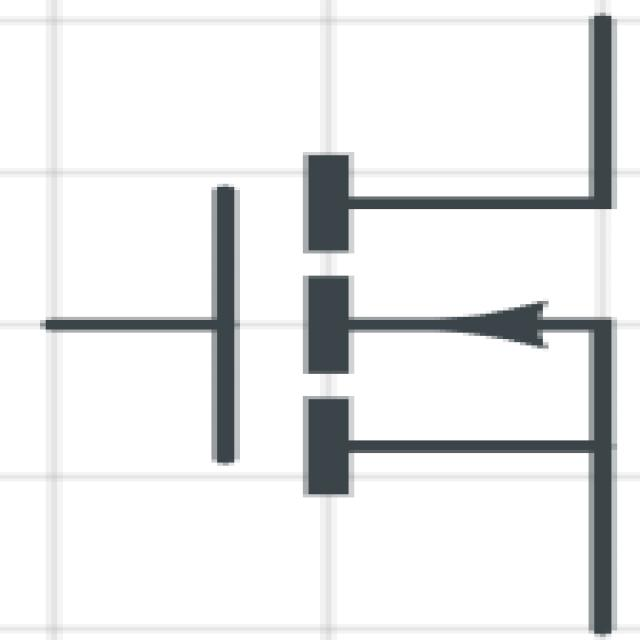nmos: (28, 19, 640, 624)
